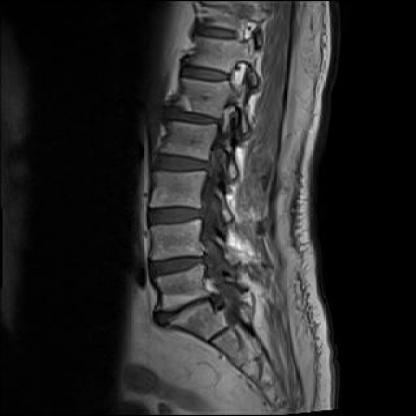Degenerative Disc Diseaserotation: (144, 246, 221, 279), (145, 296, 234, 323)
Disc Bulgerotation: (144, 246, 220, 279), (146, 296, 234, 322)
Disc Relaxationrotation: (142, 201, 214, 232), (161, 103, 225, 134), (147, 147, 211, 178)
